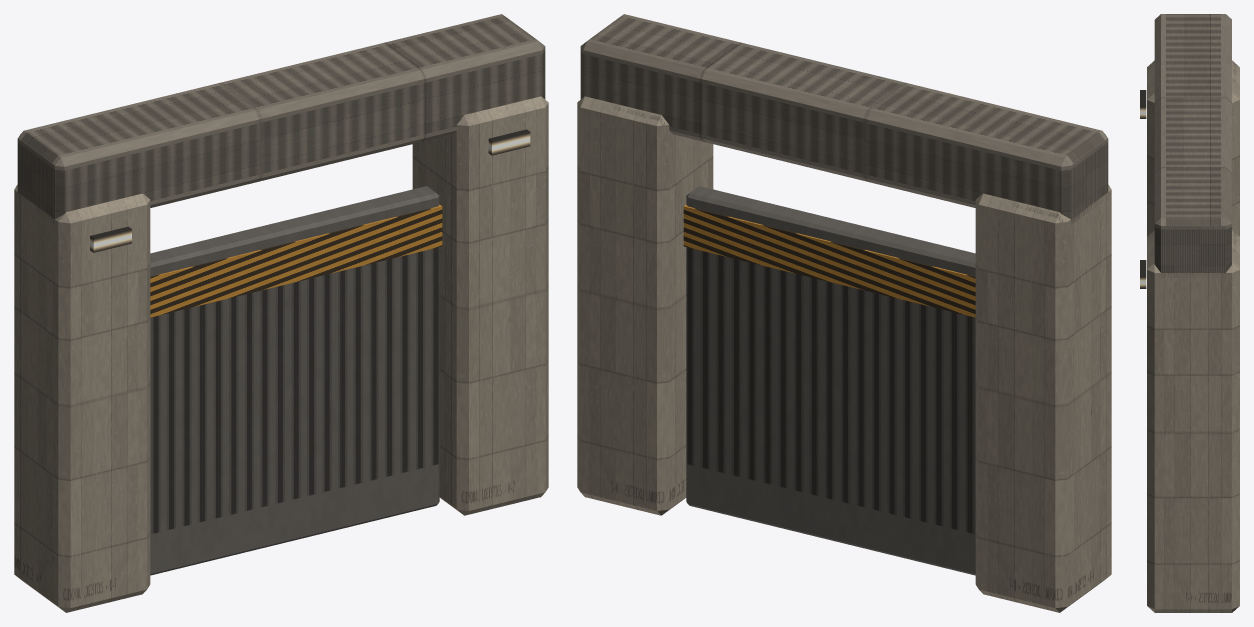
File: blastwall_gate.obj
3 renders of one model, left to right at view 1: azimuth 30°, elevation 25°; view 2: azimuth 150°, elevation 25°; view 3: azimuth 270°, elevation 25°, orthographic. The views are drawn at different scales.
Visible parts, largest first — view 1: blastwall_gate; view 2: blastwall_gate; view 3: blastwall_gate.
Boxes of the visible parts, bbox=[...] form: blastwall_gate: bbox=[14, 14, 548, 612]; blastwall_gate: bbox=[577, 14, 1111, 612]; blastwall_gate: bbox=[1140, 14, 1239, 612].
Size of the model in its own units: 6.4 by 5.65 by 1.29.
1 material, 1 textured.
